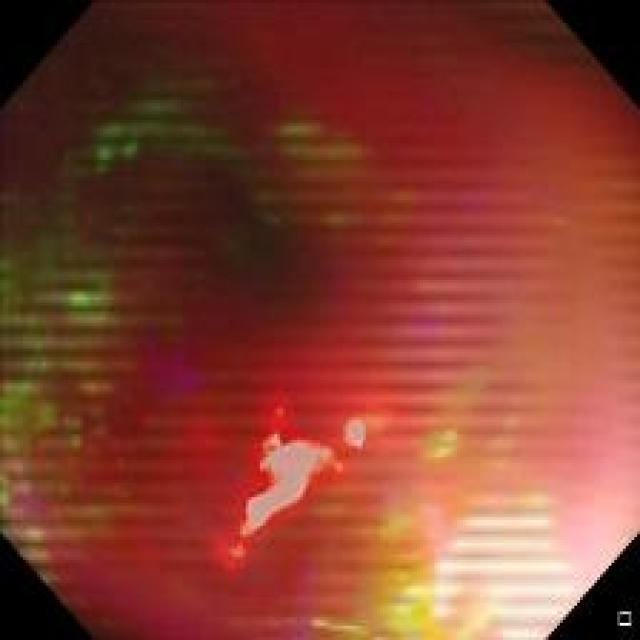color misalignment: (18, 14, 628, 632), (2, 214, 155, 578), (81, 74, 294, 236), (220, 401, 384, 574), (396, 198, 521, 406), (351, 499, 490, 638), (275, 125, 379, 231), (424, 504, 464, 566)
saturation: (434, 500, 578, 628)
